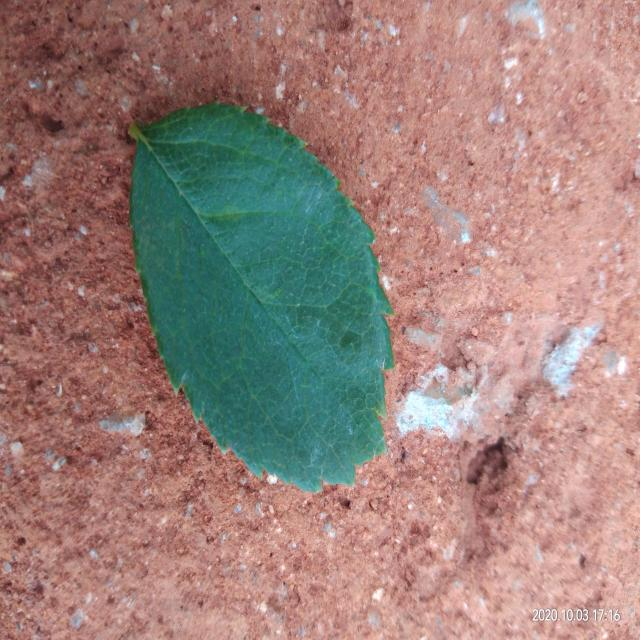rose: (130, 103, 394, 492)
